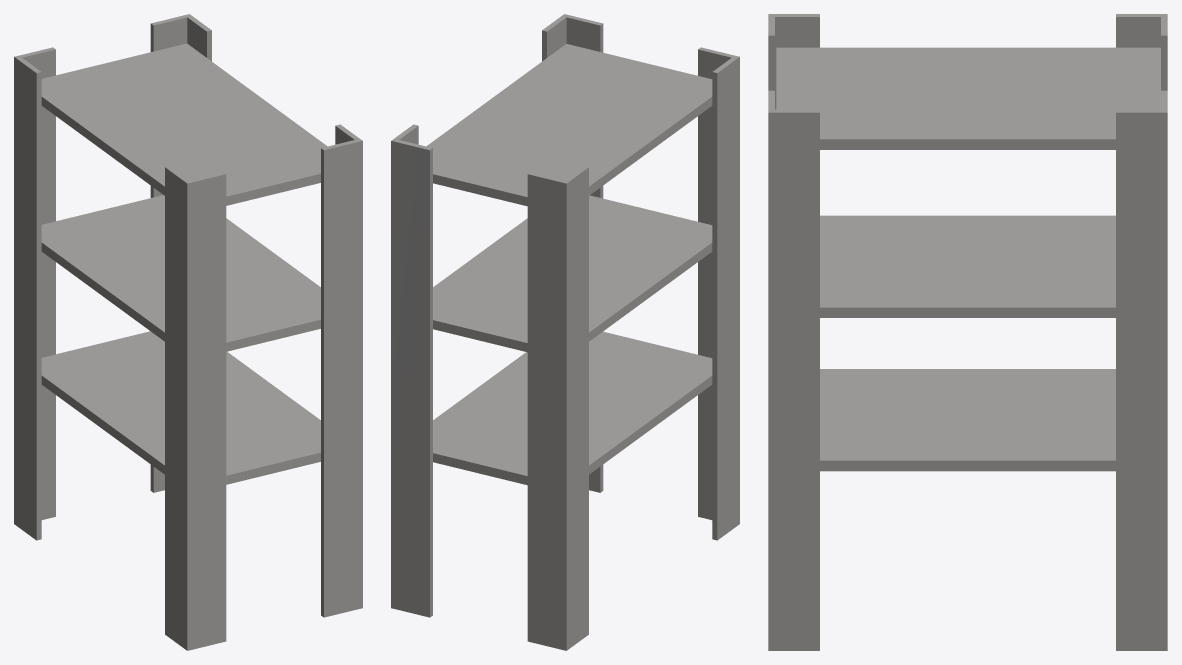
Rendered from MOBILE METALLICO.fbx.
The picture shows the model from 3 angles, left to right: view 1: azimuth 30°, elevation 25°; view 2: azimuth 150°, elevation 25°; view 3: azimuth 270°, elevation 25°; orthographic projection. The views are drawn at different scales.
Parts seen in each view (by area): view 1: pCube9; view 2: pCube9; view 3: pCube9.
Boxes of the visible parts, left/top/right/bottom form: pCube9: left=14, top=14, right=362, bottom=650; pCube9: left=391, top=14, right=739, bottom=650; pCube9: left=768, top=14, right=1167, bottom=650.
Bounding box in the file's own units: 5.19 × 13.23 × 8.89.
